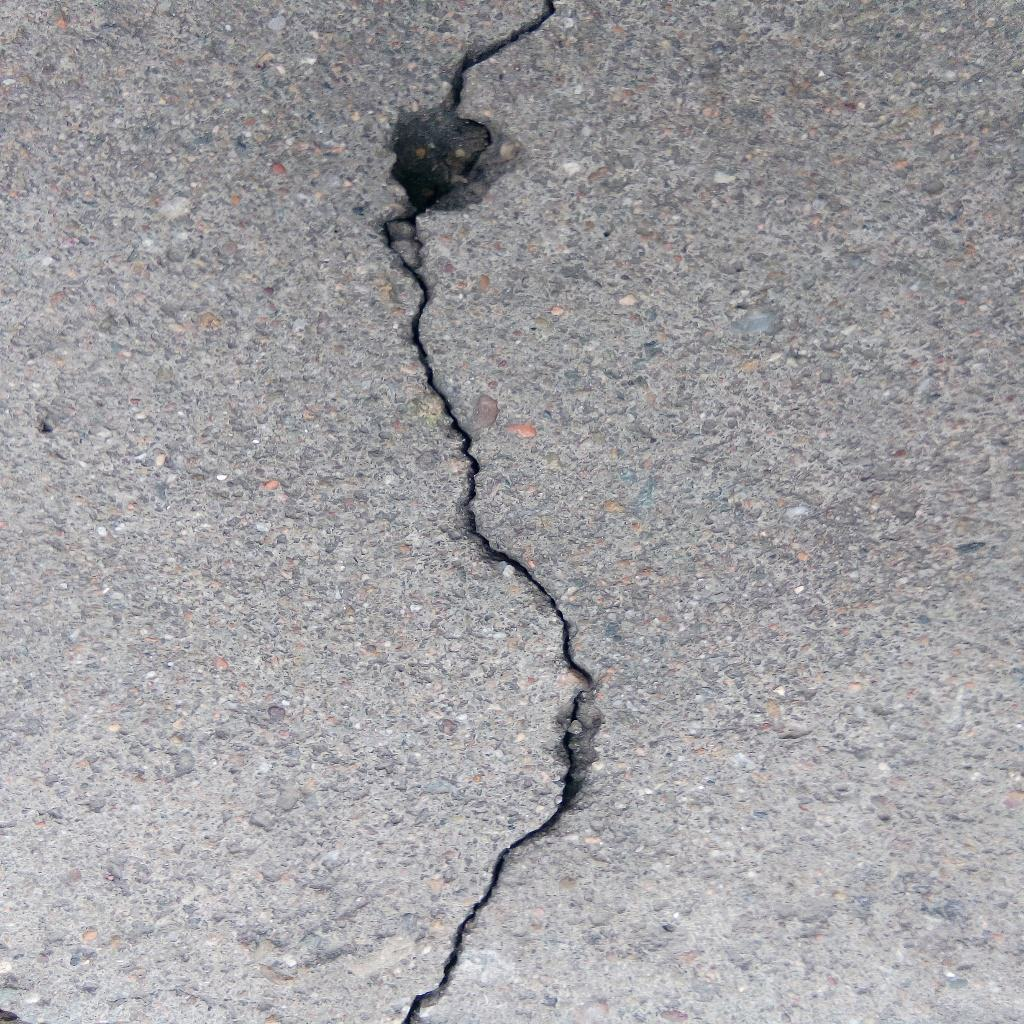Crack: (376, 209, 598, 1024), (443, 1, 557, 112)
Spalling: (383, 112, 529, 209)
